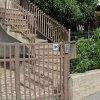stairs: (0, 5, 55, 45), (21, 48, 72, 89)
